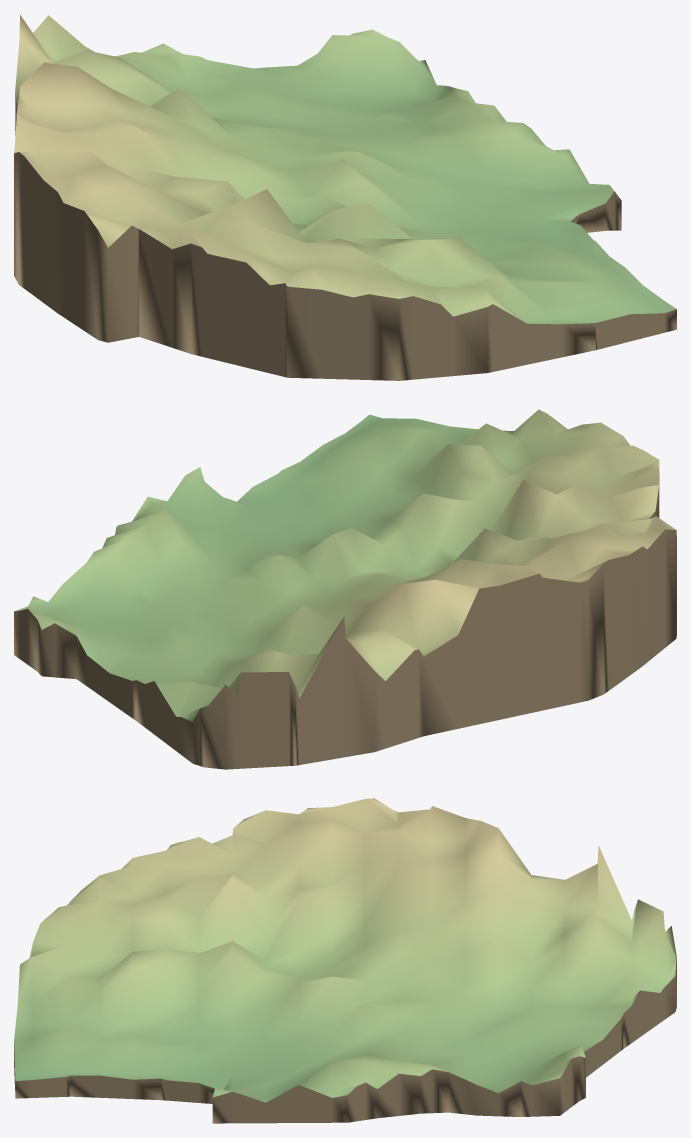
File: SWZ.glb
3 renders of one model, top to bottom at view 1: azimuth 30°, elevation 25°; view 2: azimuth 150°, elevation 25°; view 3: azimuth 270°, elevation 25°, orthographic. The views are drawn at different scales.
Visible parts, largest first — view 1: SWZ; view 2: SWZ; view 3: SWZ.
Boxes of the visible parts, box(x1,y1,x2,y2) form: SWZ: box(14, 14, 676, 380); SWZ: box(14, 409, 676, 769); SWZ: box(14, 798, 676, 1123).
Bounding box in the file's own units: 1.23 × 0.338 × 1.63.
